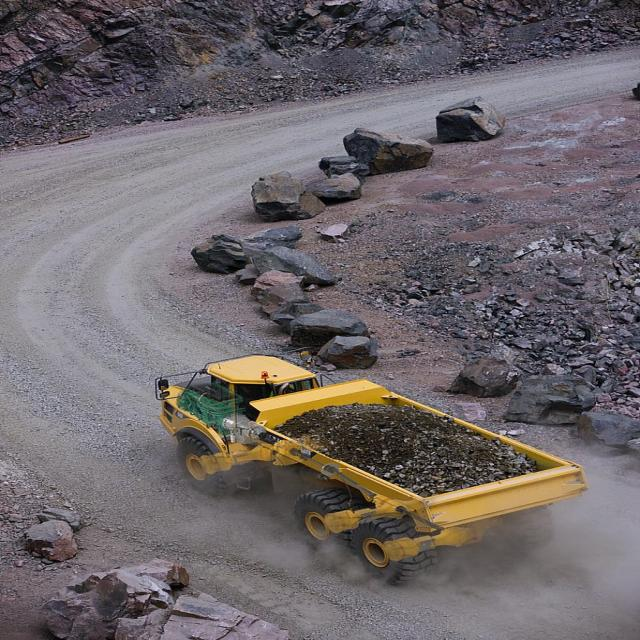dump_truck: (127, 344, 598, 589)
